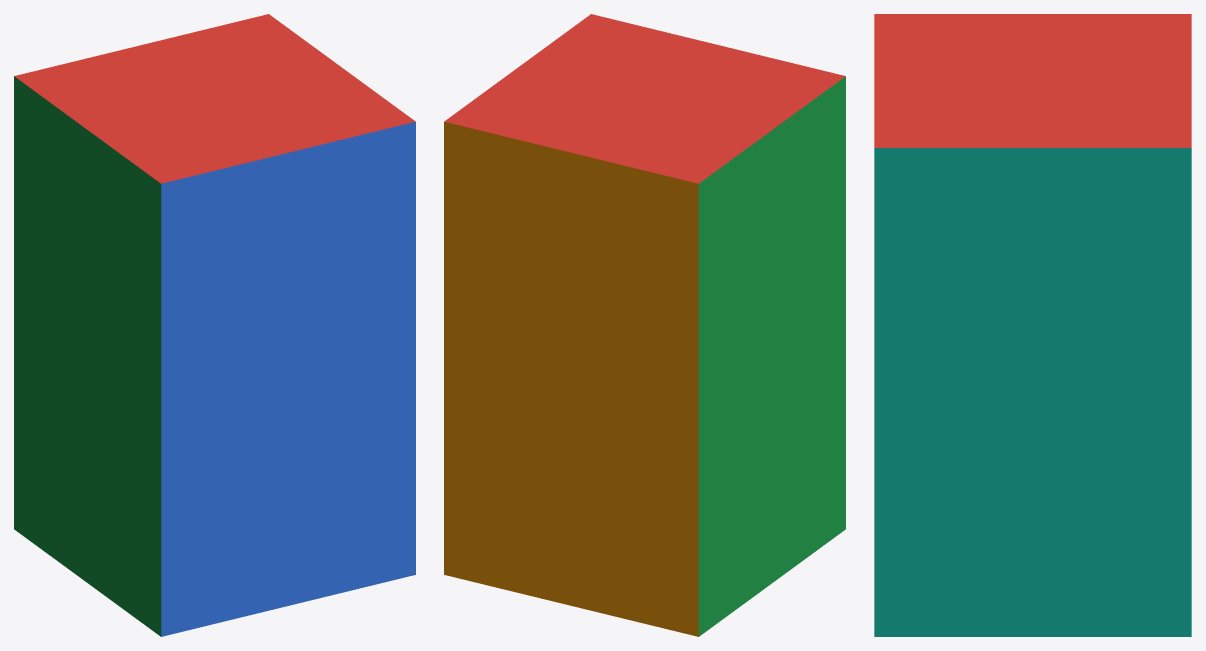
The model's file is prisma-segiempat.glb.
3 views of the same model, side by side, from view 1: azimuth 30°, elevation 25°; view 2: azimuth 150°, elevation 25°; view 3: azimuth 270°, elevation 25° (orthographic). The views are drawn at different scales.
Parts seen in each view (by area): view 1: tegak1, tegak2, atas; view 2: tegak3, tegak2, atas; view 3: tegak4, atas.
Part boxes in pixels (x1,y1,x2,y2): tegak1: (161,121,415,636); tegak2: (14,76,161,636); atas: (14,14,415,183); tegak3: (444,121,698,636); tegak2: (698,76,845,636); atas: (444,14,845,183); tegak4: (874,148,1191,636); atas: (874,14,1191,147).
Size of the model in its own units: 1 by 1.7 by 1.
